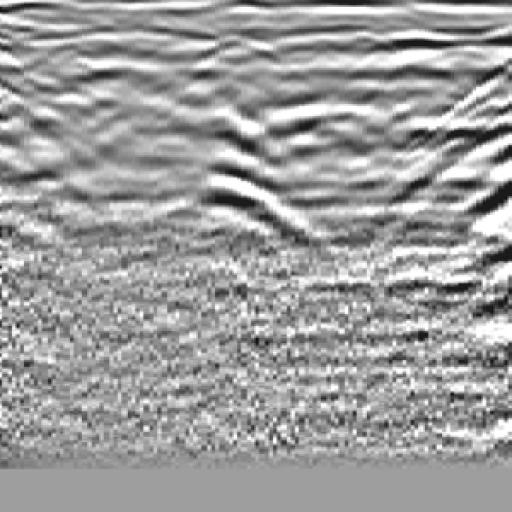metalic: (174, 31, 325, 281)
nonmetalic: (401, 28, 512, 304)
